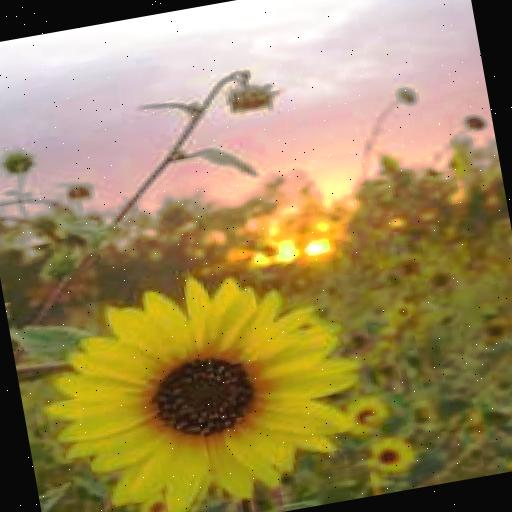sunflower: (29, 258, 368, 512)
